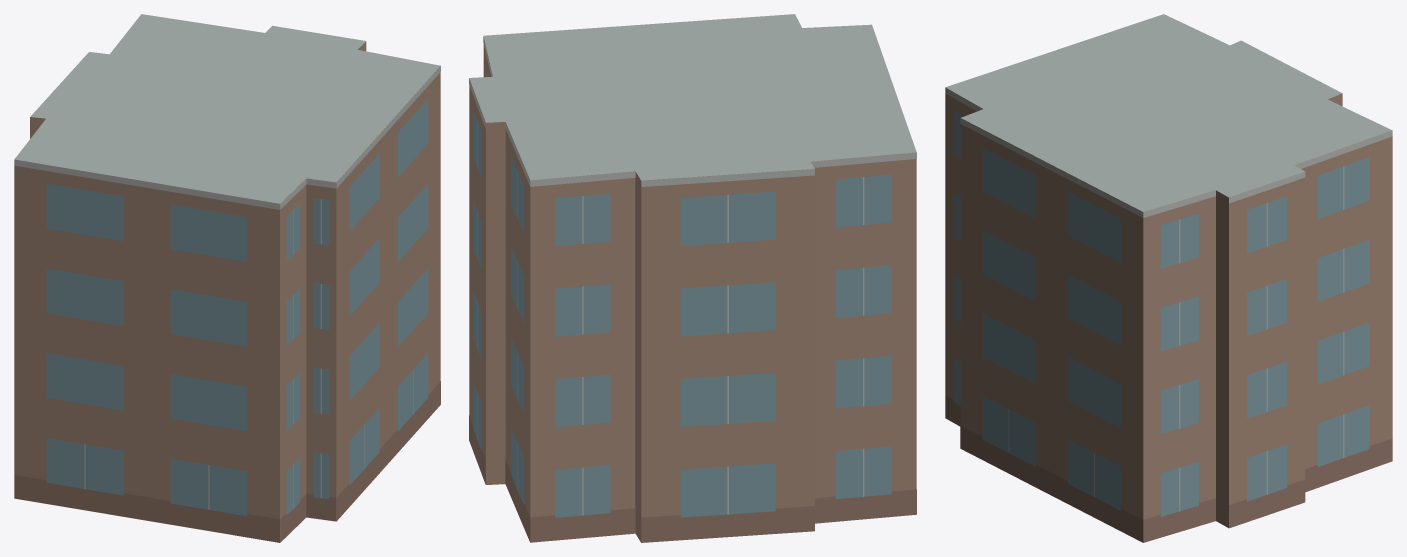
File: survey-upis-32739357.glb
The picture shows the model from 3 angles, left to right: view 1: azimuth 30°, elevation 25°; view 2: azimuth 150°, elevation 25°; view 3: azimuth 270°, elevation 25°; orthographic projection. The views are drawn at different scales.
Visible parts, largest first — view 1: survey-upis-32739357.tmp; view 2: survey-upis-32739357.tmp; view 3: survey-upis-32739357.tmp.
Boxes of the visible parts, x1,y1,x2,y2 form: survey-upis-32739357.tmp: (14, 14, 440, 542); survey-upis-32739357.tmp: (469, 14, 916, 542); survey-upis-32739357.tmp: (945, 14, 1392, 542).
Size of the model in its own units: 17.41 by 13.55 by 16.62.
